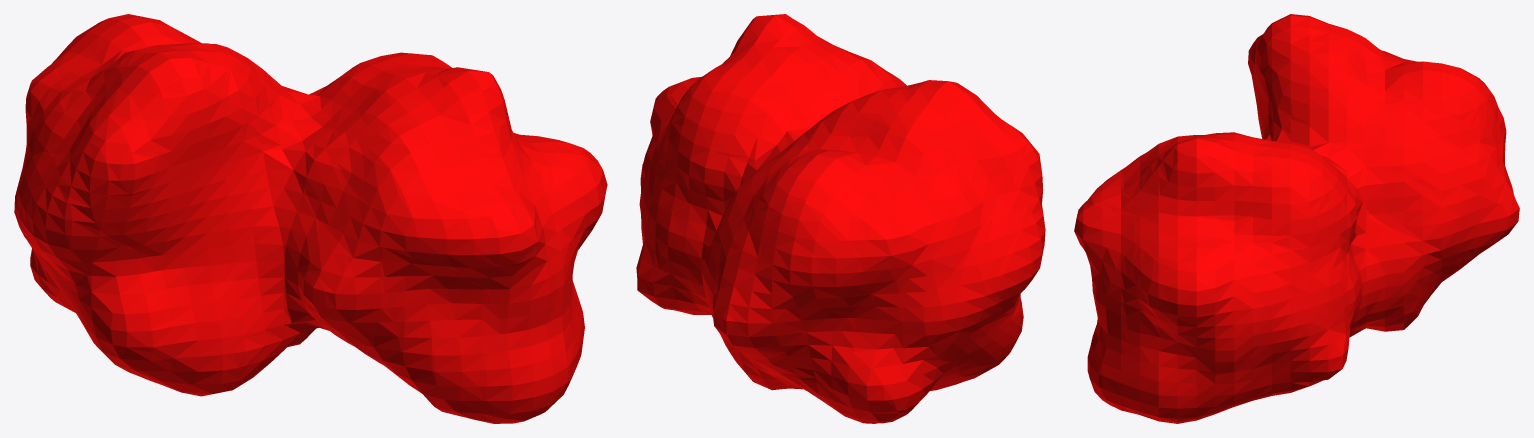
Rendered from Membrane_associated_progestero_coarse.dae.
3 renders of one model, left to right at view 1: azimuth 30°, elevation 25°; view 2: azimuth 150°, elevation 25°; view 3: azimuth 270°, elevation 25°, orthographic. The views are drawn at different scales.
Visible parts, largest first — view 1: Membrane_associated_progestero; view 2: Membrane_associated_progestero; view 3: Membrane_associated_progestero.
Part boxes in pixels (<box>): Membrane_associated_progestero: <box>14,14,607,423</box>; Membrane_associated_progestero: <box>636,14,1045,423</box>; Membrane_associated_progestero: <box>1074,14,1519,423</box>.
Size of the model in its own units: 60.95 by 41.62 by 57.89.
